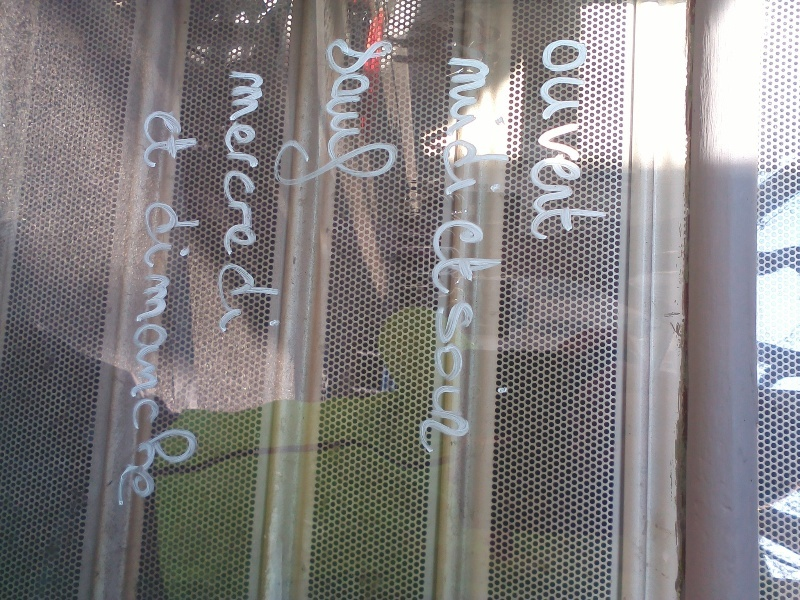text: (145, 201, 160, 515), (161, 201, 176, 515), (177, 201, 192, 515), (225, 63, 240, 343), (241, 63, 256, 343), (257, 63, 272, 343), (273, 63, 288, 343), (193, 201, 204, 515), (593, 37, 609, 248), (545, 37, 560, 248), (561, 37, 576, 248), (577, 37, 592, 248), (433, 293, 448, 492), (449, 293, 464, 492), (465, 293, 480, 492), (481, 293, 496, 492), (497, 293, 512, 492), (513, 293, 526, 492), (497, 53, 513, 205), (420, 293, 432, 492), (273, 33, 288, 190), (289, 33, 304, 190), (305, 33, 320, 190), (321, 33, 336, 190), (337, 33, 352, 190), (353, 33, 368, 190), (369, 33, 384, 190), (385, 33, 400, 190), (449, 53, 464, 205), (465, 53, 480, 205), (481, 53, 496, 205), (433, 213, 448, 302), (449, 213, 464, 302), (465, 213, 480, 302), (481, 213, 496, 302), (289, 63, 293, 343), (539, 37, 544, 248), (145, 108, 160, 171), (161, 108, 176, 171), (177, 108, 192, 171), (141, 201, 144, 515), (497, 213, 507, 302), (193, 108, 200, 171), (139, 108, 144, 171), (401, 33, 403, 190), (430, 213, 432, 302), (447, 53, 448, 205)
